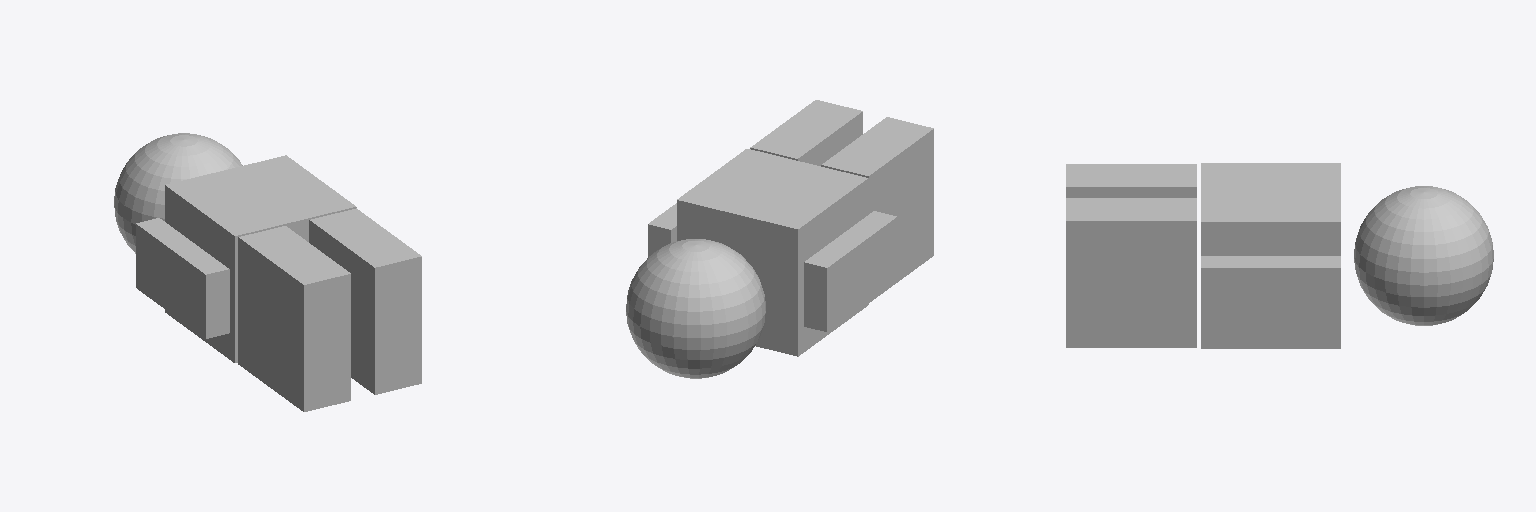
File: sporty_robot_animation_000003.obj
The picture shows the model from 3 angles: view 1: azimuth 30°, elevation 25°; view 2: azimuth 150°, elevation 25°; view 3: azimuth 270°, elevation 25°; orthographic projection.
Visible parts, largest first — view 1: Cube.002, Cube.001_Cube.005, Cube, Cube.004, Sphere.001; view 2: Cube, Sphere.001, Cube.002, Cube.004, Cube.001_Cube.005, Cube.003; view 3: Cube.001_Cube.005, Cube, Sphere.001, Cube.003, Cube.002.
Boxes of the visible parts, <box> form: Cube.002: <box>238,226,350,411</box>; Cube.001_Cube.005: <box>309,208,421,394</box>; Cube: <box>165,155,356,362</box>; Cube.004: <box>136,218,229,338</box>; Sphere.001: <box>114,133,242,253</box>; Cube: <box>677,149,868,356</box>; Sphere.001: <box>626,239,765,378</box>; Cube.002: <box>821,117,933,302</box>; Cube.004: <box>804,211,897,331</box>; Cube.001_Cube.005: <box>750,100,862,165</box>; Cube.003: <box>648,203,676,256</box>; Cube.001_Cube.005: <box>1066,198,1196,347</box>; Cube: <box>1201,163,1340,348</box>; Sphere.001: <box>1354,186,1493,325</box>; Cube.003: <box>1201,256,1340,331</box>; Cube.002: <box>1066,164,1196,197</box>.
Size of the model in its own units: 0.76 by 0.514 by 1.57.